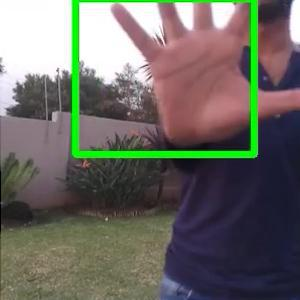follow_hand: (105, 0, 299, 155)
